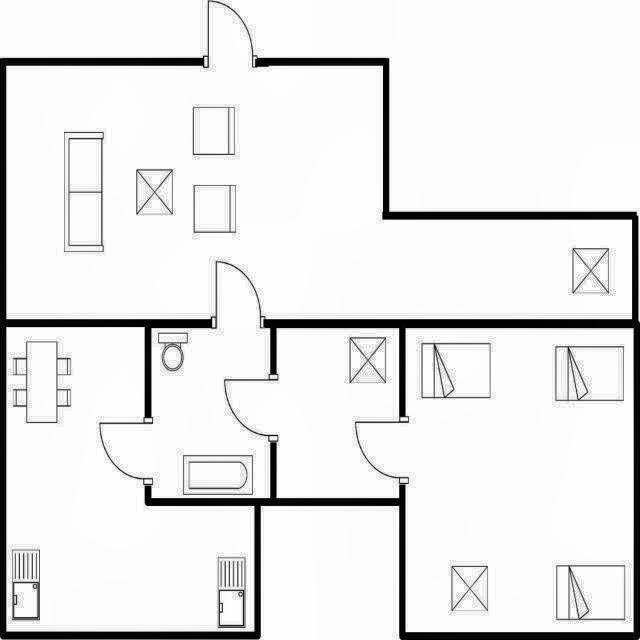room: (6, 65, 632, 319), (6, 327, 254, 632), (405, 328, 634, 632), (277, 328, 399, 498), (151, 328, 270, 498)
